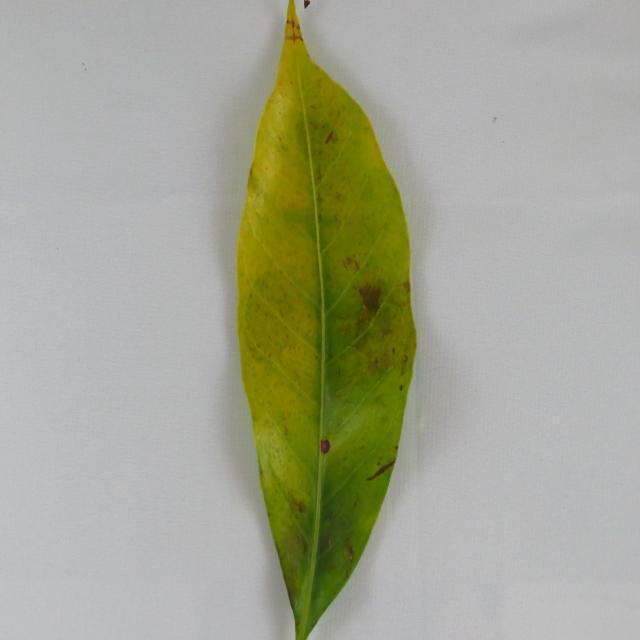DeficienciaNutricional-Nitrogeno: (235, 1, 415, 638)
